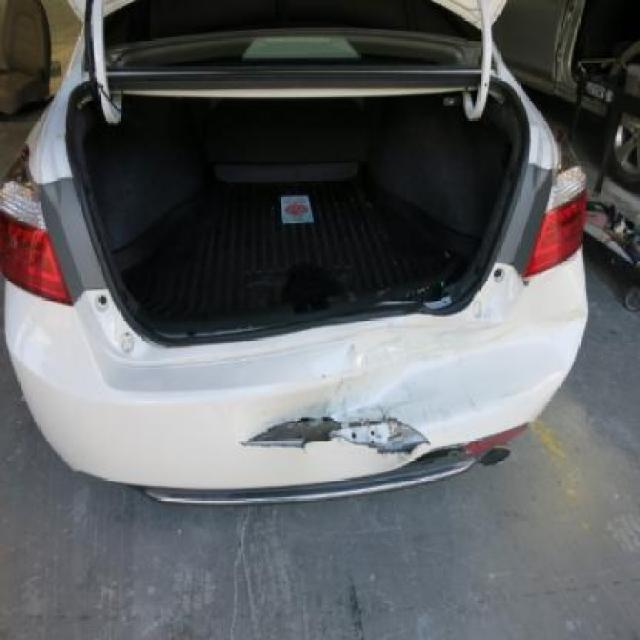minor: (238, 409, 432, 472), (331, 338, 478, 409)
